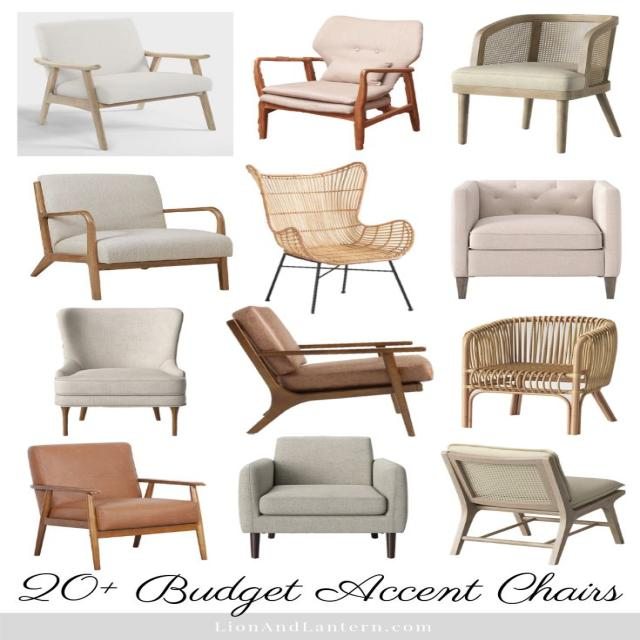obstacle: (226, 306, 434, 436), (30, 172, 234, 300), (245, 161, 414, 313), (31, 17, 216, 150), (451, 13, 622, 154), (27, 441, 207, 570), (253, 14, 423, 150), (440, 443, 625, 565), (450, 179, 622, 300), (238, 436, 408, 558), (460, 315, 618, 434), (53, 307, 186, 436)
